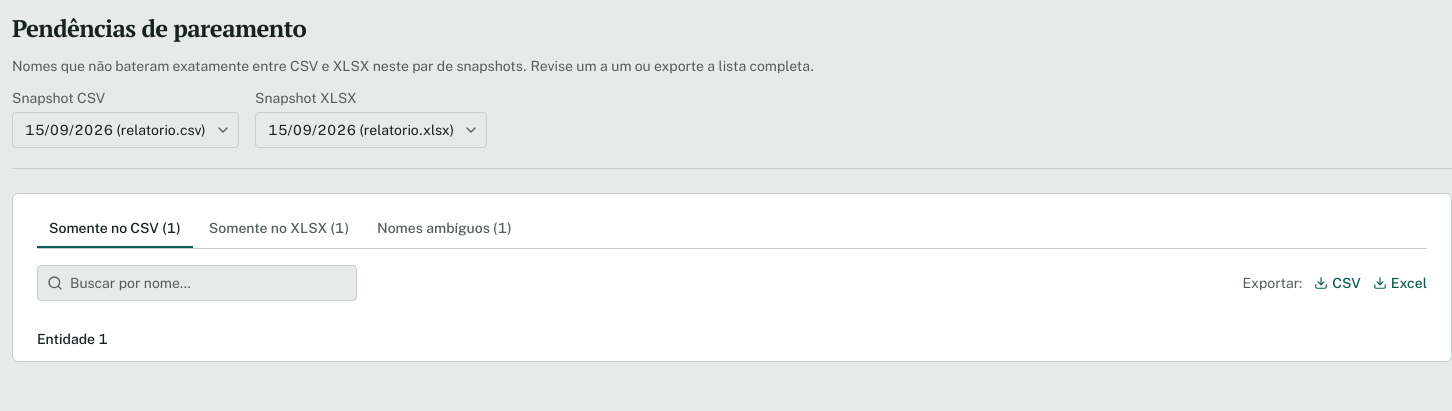
Test: PendenciasPage › comeca na aba Somente no CSV e troca de conteudo ao clicar em outra aba
This screenshot has width=1452, height=411.
expect the tab "Somente no CSV (1)" is shown: met, box [37, 210, 193, 248]
expect the text "Entidade 1" is shown: met, box [37, 329, 108, 349]
Step 1. Click the tab "Somente no XLSX (1)" → (279, 229), box [197, 210, 361, 248]
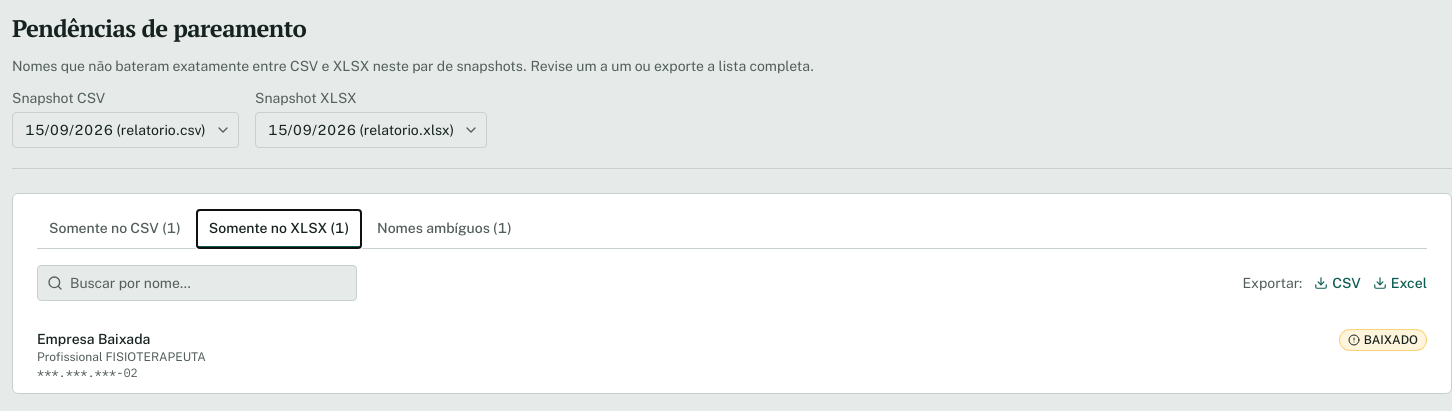
expect the text "Empresa Baixada" is shown: met, box [37, 331, 150, 347]
expect the text "BAIXADO" is shown: met, box [1339, 329, 1427, 351]
